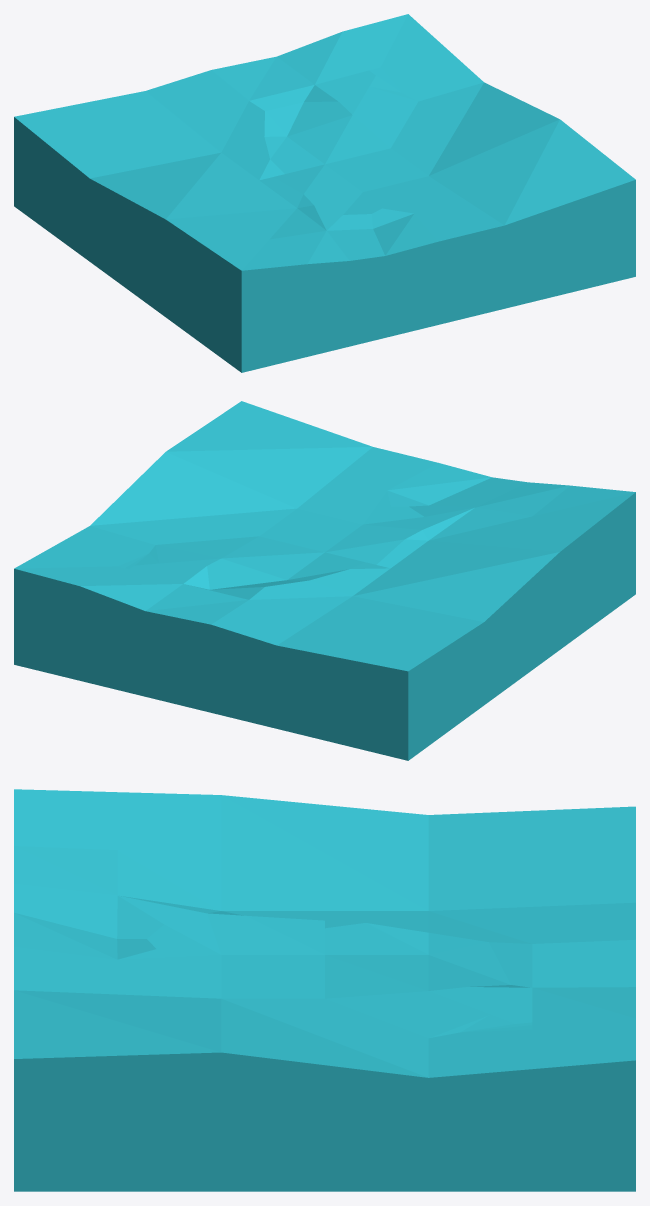
Rendered from sea-water.fbx.
3 views of the same model, one above another, from view 1: azimuth 30°, elevation 25°; view 2: azimuth 150°, elevation 25°; view 3: azimuth 270°, elevation 25° (orthographic). The views are drawn at different scales.
Parts seen in each view (by area): view 1: sea-water; view 2: sea-water; view 3: sea-water.
Boxes of the visible parts, box(x1,y1,x2,y2) form: sea-water: box(14, 14, 635, 372); sea-water: box(14, 401, 635, 760); sea-water: box(14, 789, 635, 1191).
Size of the model in its own units: 19.68 by 4.87 by 19.68.
